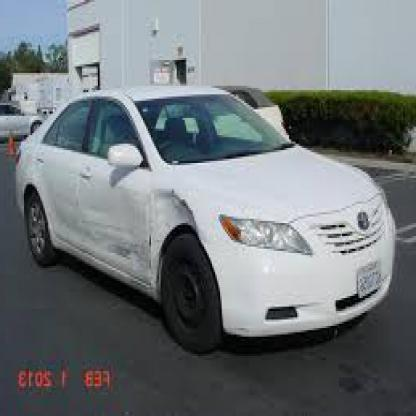dent: (149, 182, 193, 217)
